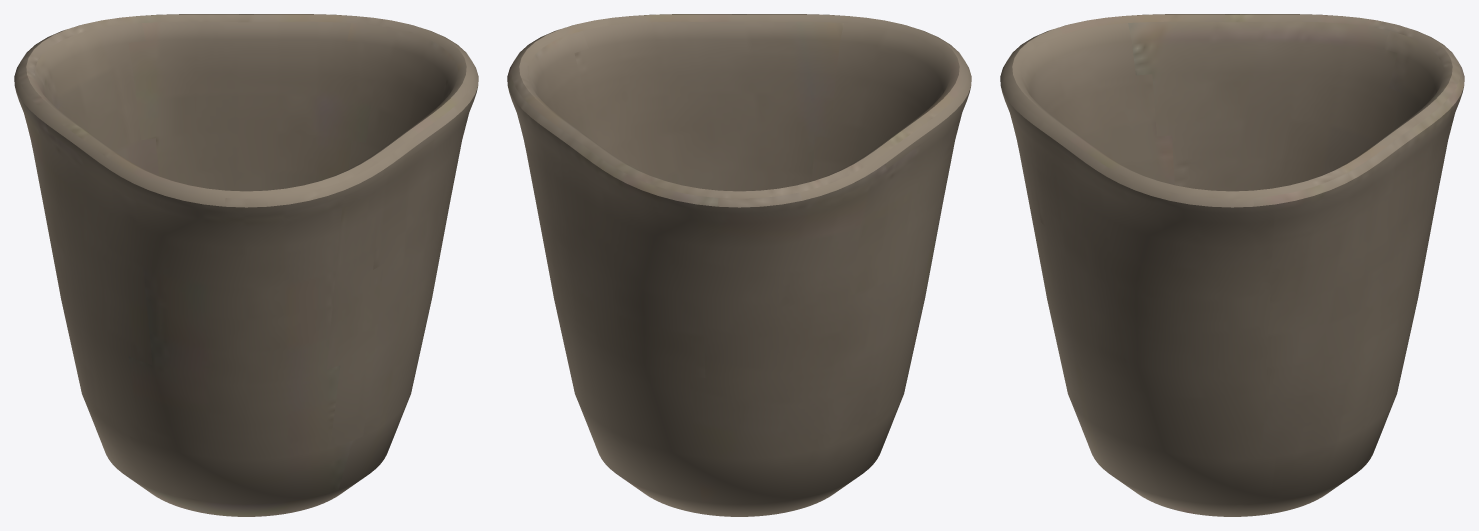
File: crucible.glb
3 renders of one model, left to right at view 1: azimuth 30°, elevation 25°; view 2: azimuth 150°, elevation 25°; view 3: azimuth 270°, elevation 25°, orthographic.
Visible parts, largest first — view 1: crucible; view 2: crucible; view 3: crucible.
Part boxes in pixels (x1=…): crucible: x1=14, y1=14, x2=478, y2=516; crucible: x1=507, y1=14, x2=971, y2=516; crucible: x1=1000, y1=14, x2=1464, y2=516.
Size of the model in its own units: 0.069 by 0.0666 by 0.0717.
Materials: 1 (1 with a texture image).
